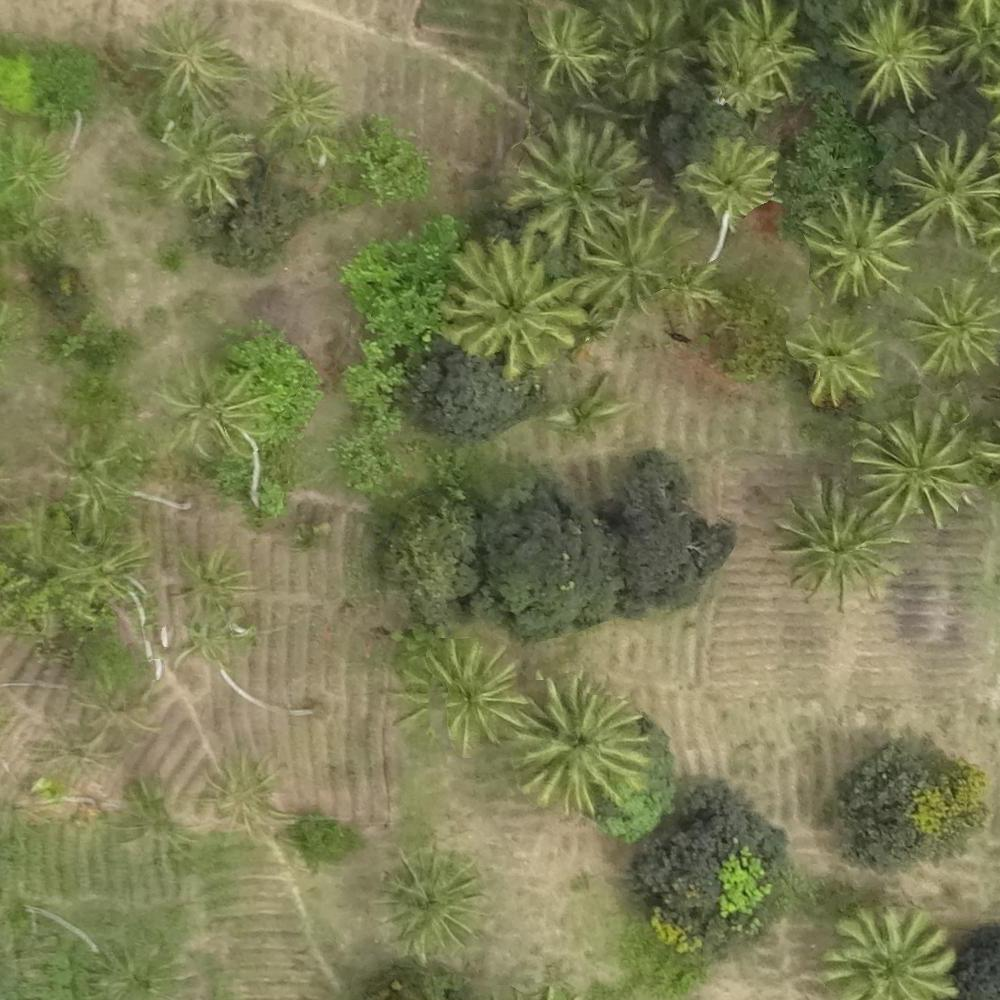Palm: (442, 242, 578, 368), (517, 683, 650, 810), (509, 125, 637, 239), (861, 410, 979, 530), (782, 484, 897, 594), (825, 908, 956, 1000), (412, 642, 521, 745), (580, 207, 682, 316), (804, 190, 907, 297), (159, 361, 268, 459), (376, 847, 477, 949), (134, 14, 241, 107), (903, 136, 996, 239), (841, 5, 941, 99), (791, 314, 885, 408), (609, 1, 701, 97), (910, 279, 1000, 374), (158, 116, 249, 207), (691, 136, 778, 219), (519, 6, 609, 85), (258, 63, 341, 143), (702, 36, 781, 111)
